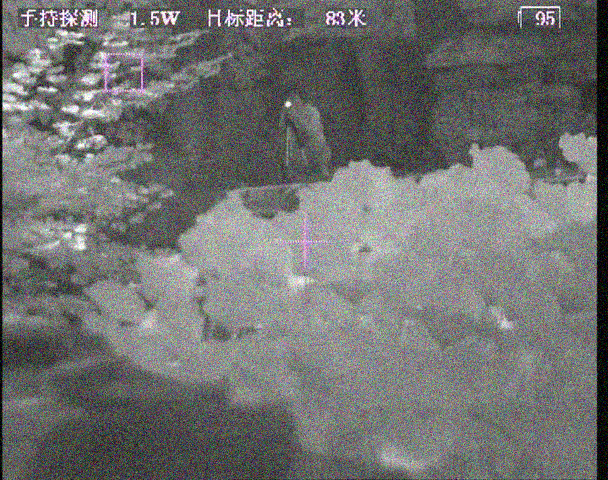my: (283, 100, 294, 110)
